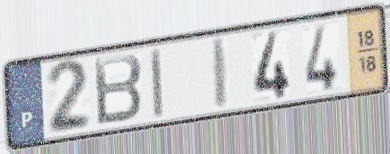2: (43, 58, 94, 139)
4: (251, 28, 293, 102), (302, 20, 343, 94)
B: (91, 51, 145, 129)
I: (210, 35, 230, 111), (148, 45, 166, 121)
